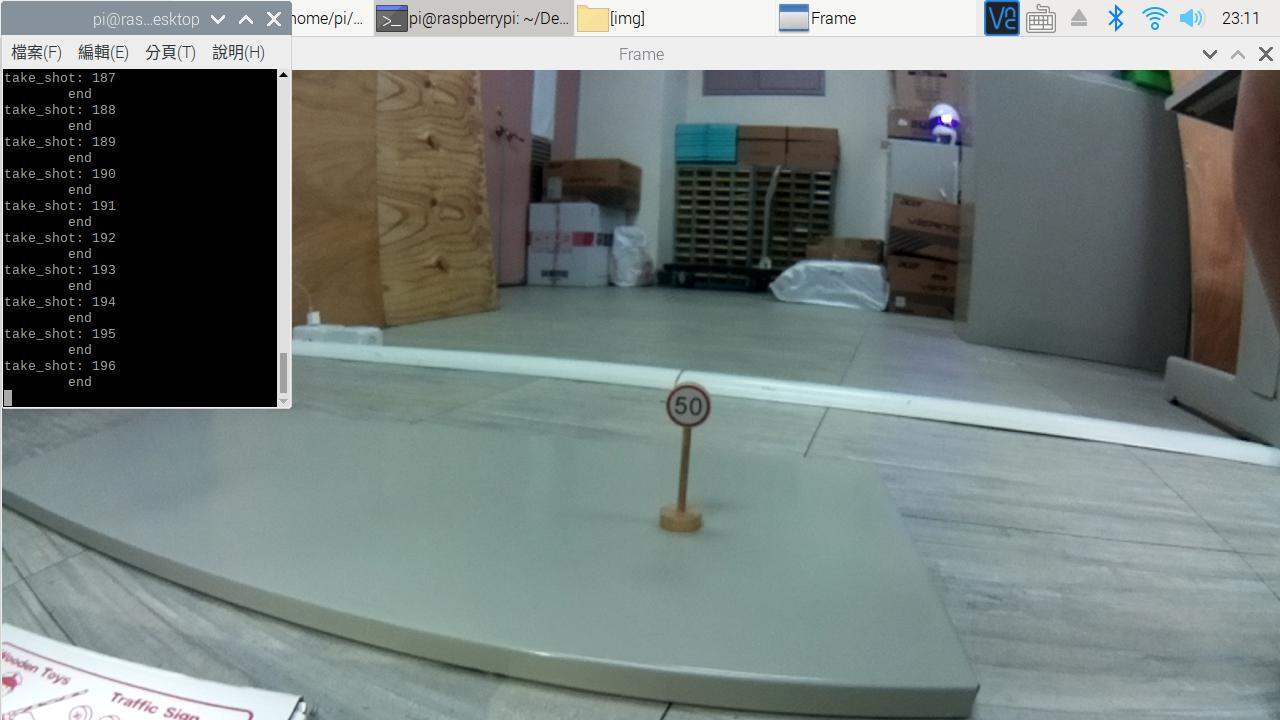Speed50: (655, 383, 729, 446)
